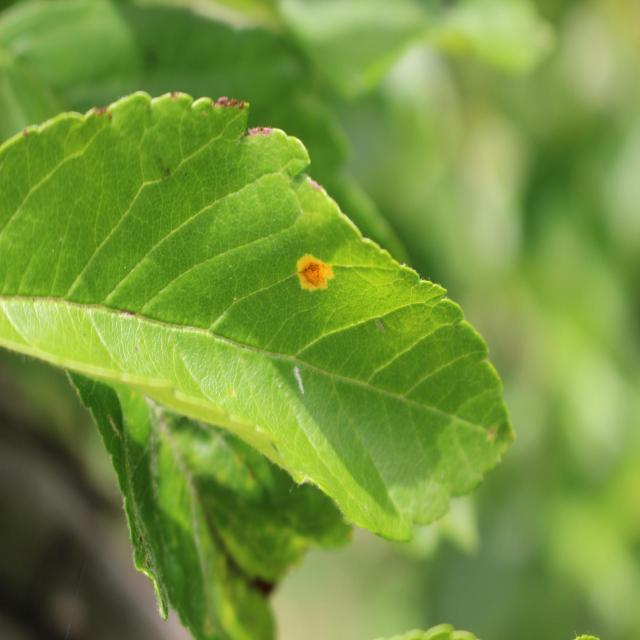Rust: (273, 225, 335, 309)
